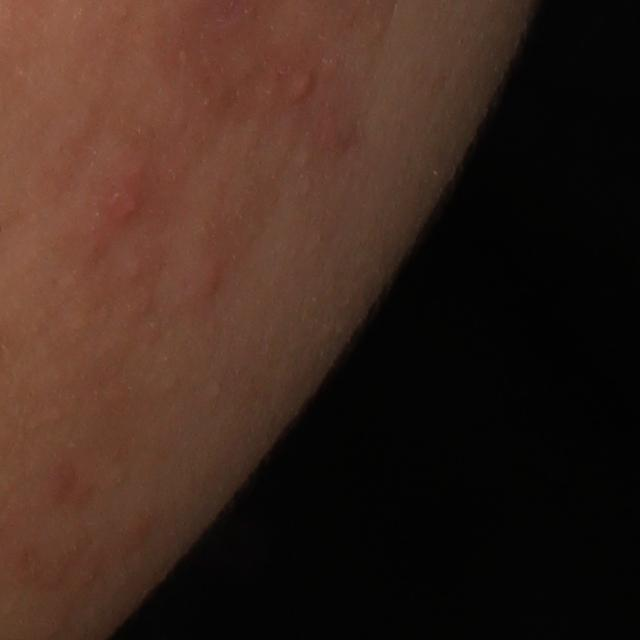papule: (190, 252, 229, 307), (110, 170, 146, 225), (287, 67, 319, 104)
